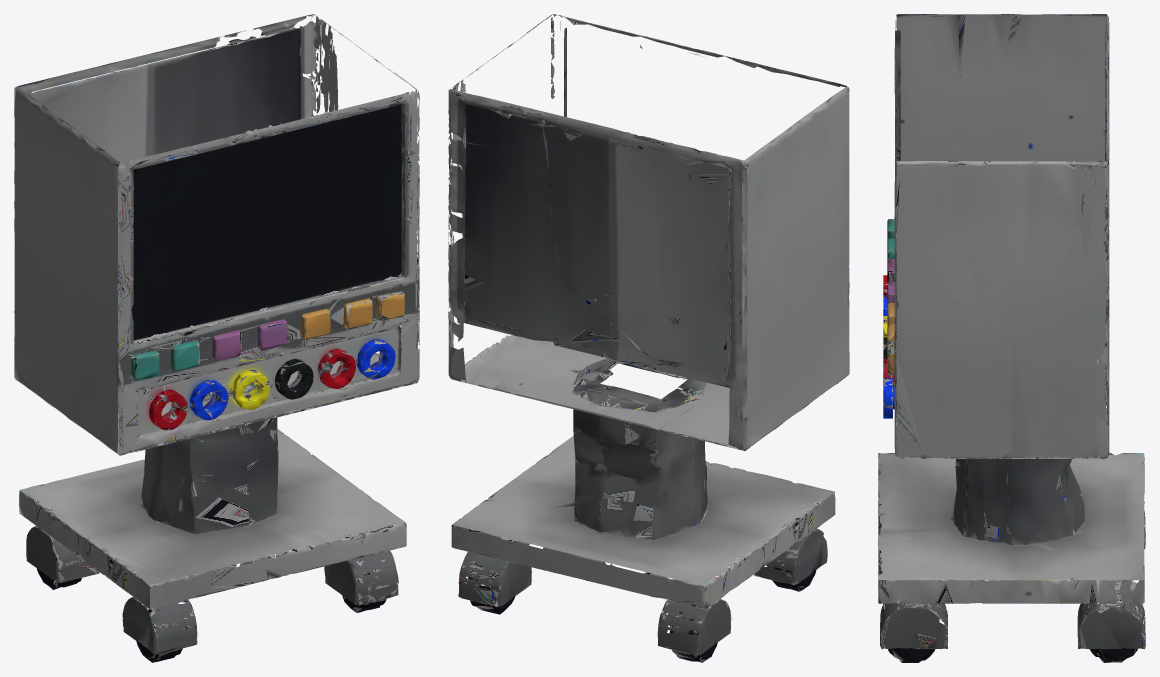
File: ecg-cart.glb
3 renders of one model, left to right at view 1: azimuth 30°, elevation 25°; view 2: azimuth 150°, elevation 25°; view 3: azimuth 270°, elevation 25°, orthographic. The views are drawn at different scales.
Visible parts, largest first — view 1: world; view 2: world; view 3: world.
Part boxes in pixels (x1,y1,x2,y2): world: (14, 14, 419, 662); world: (448, 14, 849, 662); world: (878, 14, 1145, 662).
Bounding box in the file's own units: 0.6178 × 1 × 0.4667.
1 material, 1 textured.
